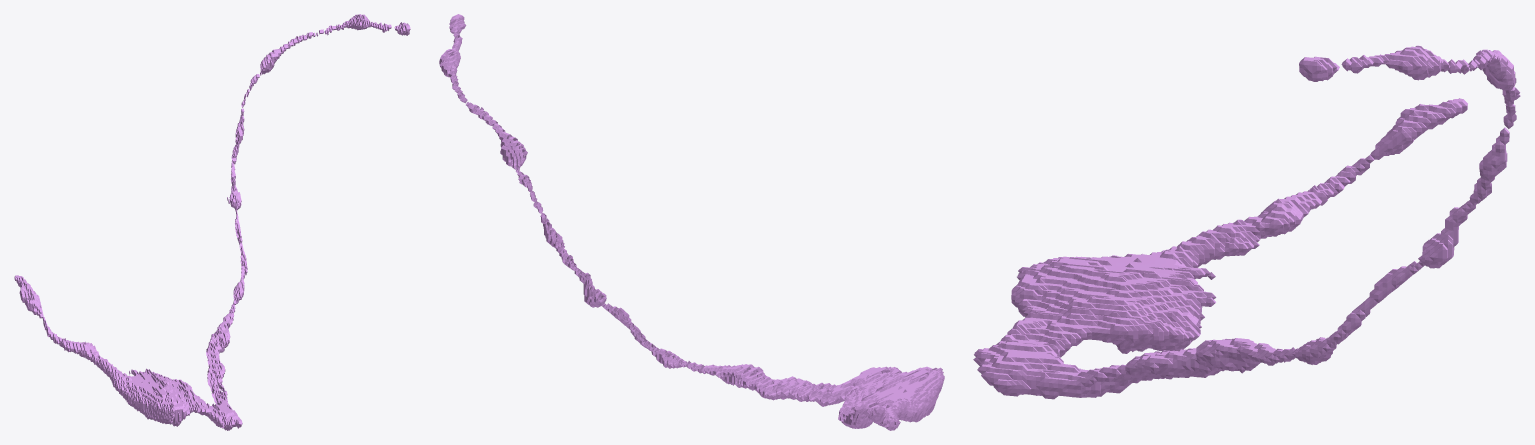
File: SVV_SDQR.gltf
3 renders of one model, left to right at view 1: azimuth 30°, elevation 25°; view 2: azimuth 150°, elevation 25°; view 3: azimuth 270°, elevation 25°, orthographic. The views are drawn at different scales.
Visible parts, largest first — view 1: SDQR; view 2: SDQR; view 3: SDQR.
Part boxes in pixels (left/top/right/bottom): SDQR: left=14, top=14, right=410, bottom=430; SDQR: left=439, top=14, right=944, bottom=430; SDQR: left=973, top=45, right=1520, bottom=399.
Bounding box in the file's own units: 118389 × 89703 × 77384.
